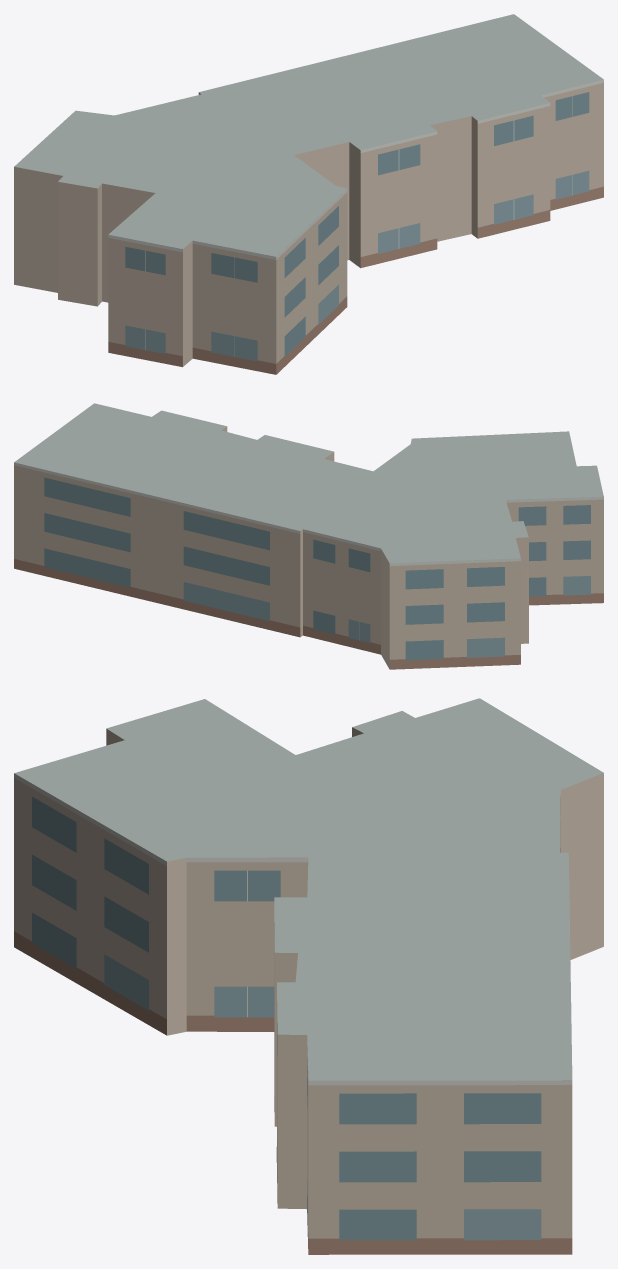
Rendered from survey-upis-32833628.glb.
The picture shows the model from 3 angles, top to bottom: view 1: azimuth 30°, elevation 25°; view 2: azimuth 150°, elevation 25°; view 3: azimuth 270°, elevation 25°; orthographic projection. The views are drawn at different scales.
Parts seen in each view (by area): view 1: survey-upis-32833628.tmp; view 2: survey-upis-32833628.tmp; view 3: survey-upis-32833628.tmp.
Part boxes in pixels (x1,y1,x2,y2): survey-upis-32833628.tmp: (14, 14, 603, 374); survey-upis-32833628.tmp: (14, 403, 603, 669); survey-upis-32833628.tmp: (14, 698, 603, 1254).
Bounding box in the file's own units: 43.15 × 9.15 × 28.11.
